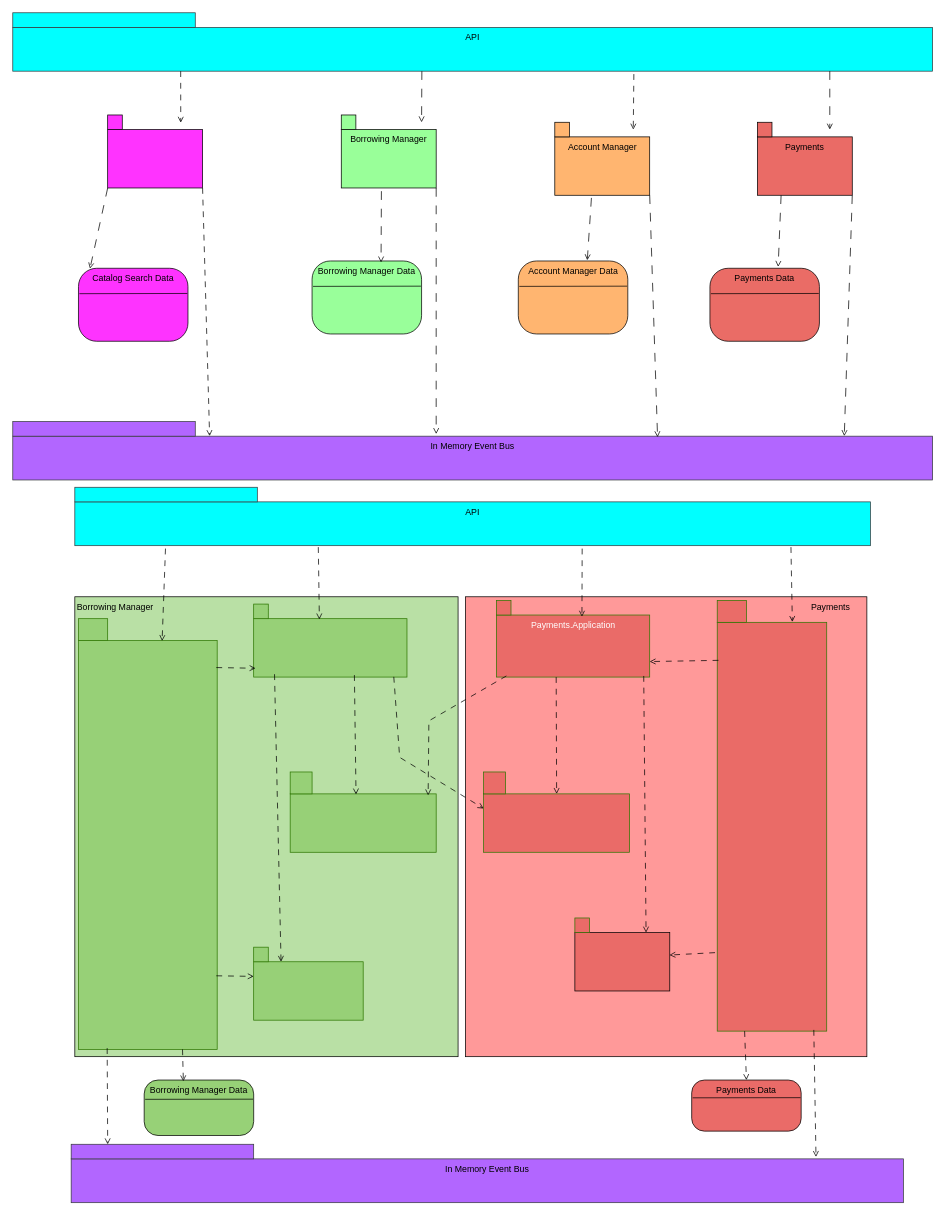
The diagram is 945 pixels wide and 1215 high, and some of its shapes have lost their labels. The shapes that lost their labels are listed below. From the top down, each one's centre as x and y in pixels, then its label:
At (155,158): "Catalog Search".
At (330,647): "Borrowing Manager .Application".
At (362,822): "Borrowing Manager .integrationEvents".
At (556,822): "Payments.integrationEvents".
At (771,826): "Payments.infrastucture".
At (147,844): "Borrowing Manager .infrastucture".
At (622,961): "Payments.Domain".
At (308,990): "Borrowing Manager .Domain".
